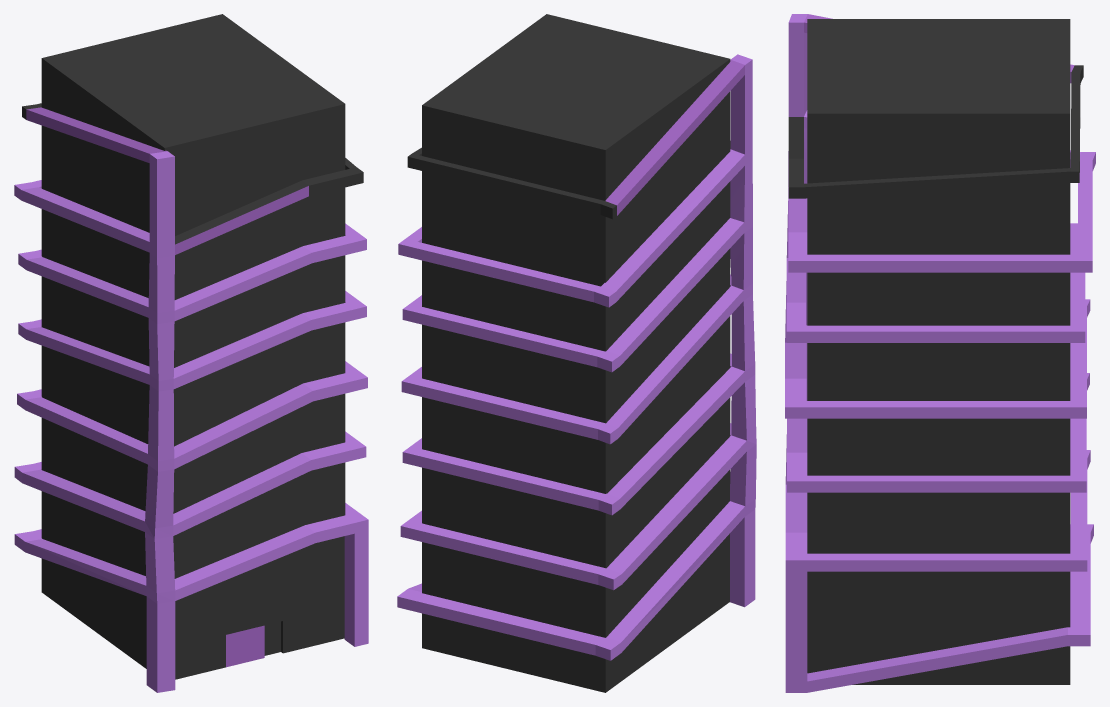
Rendered from Building 3.fbx.
3 renders of one model, left to right at view 1: azimuth 30°, elevation 25°; view 2: azimuth 150°, elevation 25°; view 3: azimuth 270°, elevation 25°, orthographic. The views are drawn at different scales.
Parts seen in each view (by area): view 1: Building4; view 2: Building4; view 3: Building4.
Part boxes in pixels (<box>): Building4: <box>14,14,368,692</box>; Building4: <box>397,14,756,692</box>; Building4: <box>785,14,1095,692</box>.
Bounding box in the file's own units: 11.5 × 27.48 × 13.52.
